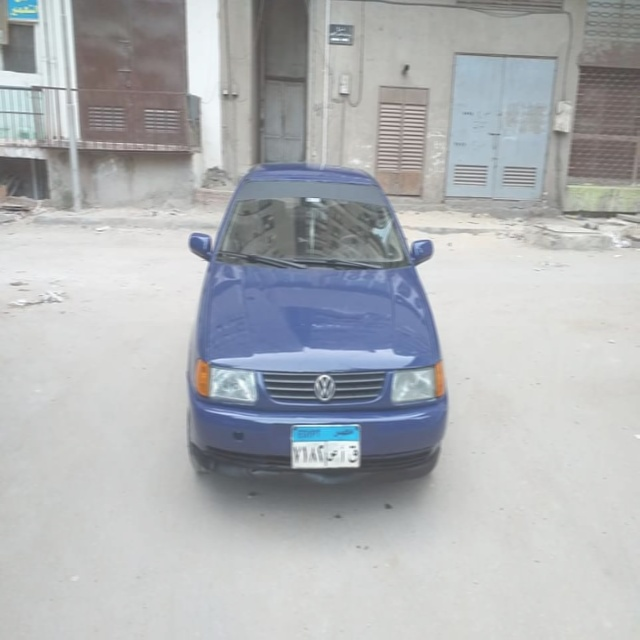License Plate: (291, 424, 362, 472)
